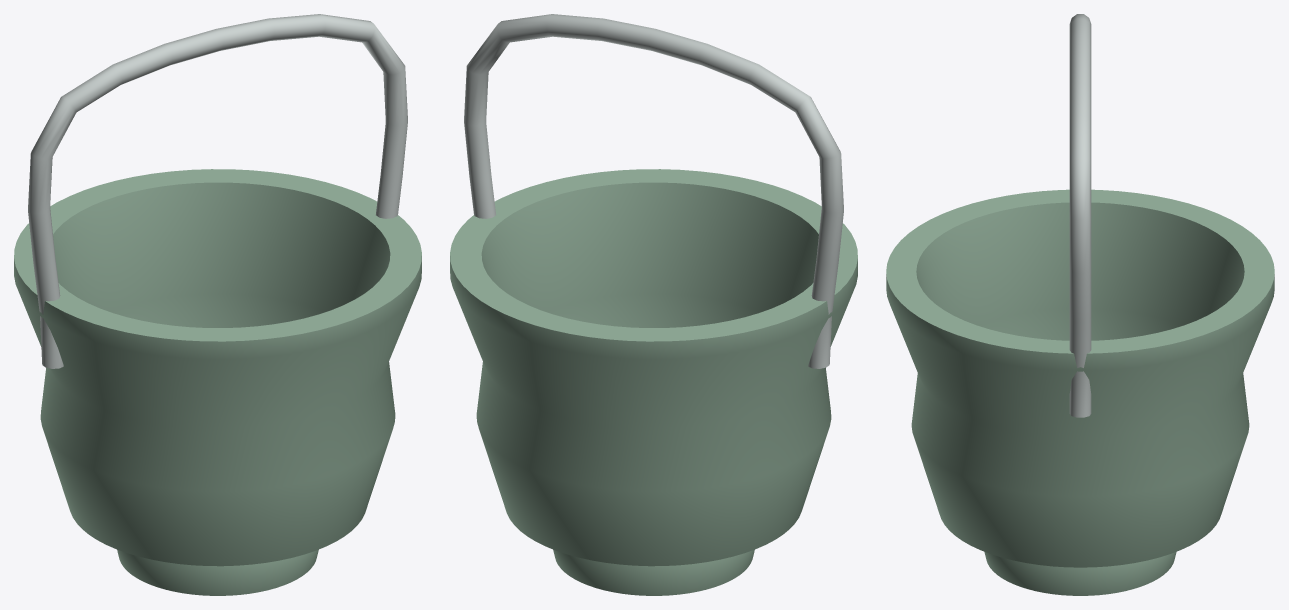
Rendered from ceramics-pottery-studio-slip-bucket-5469ff27__29509.glb.
The picture shows the model from 3 angles, left to right: view 1: azimuth 30°, elevation 25°; view 2: azimuth 150°, elevation 25°; view 3: azimuth 270°, elevation 25°; orthographic projection. The views are drawn at different scales.
Parts seen in each view (by area): view 1: slip-bucket; view 2: slip-bucket; view 3: slip-bucket.
Part boxes in pixels (box(x1,y1,x2,y2)): slip-bucket: box(14, 14, 421, 595); slip-bucket: box(450, 14, 857, 595); slip-bucket: box(886, 14, 1274, 595).
Size of the model in its own units: 0.3432 by 0.4561 by 0.322.
